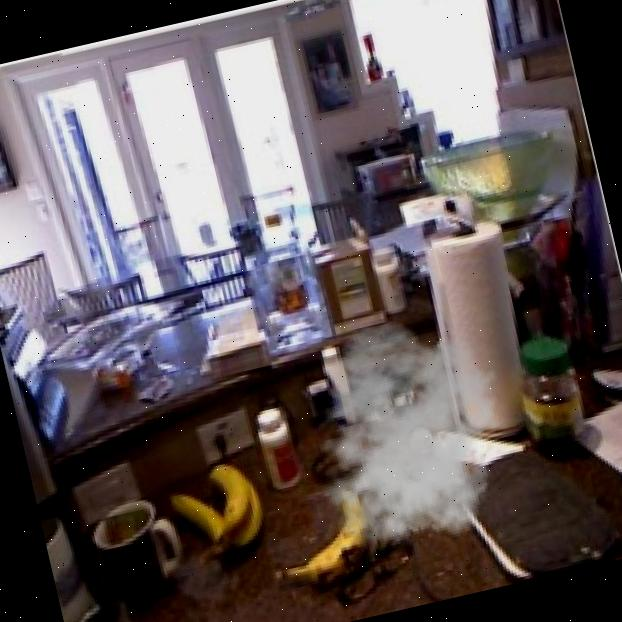smoke: (282, 299, 532, 570)
